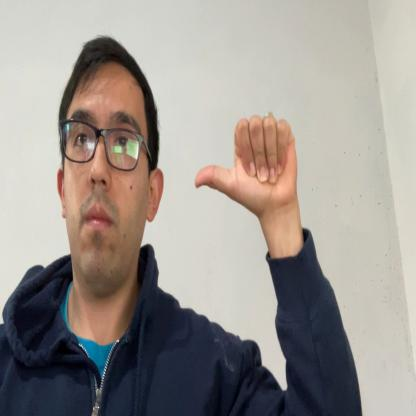A: (194, 113, 298, 209)
